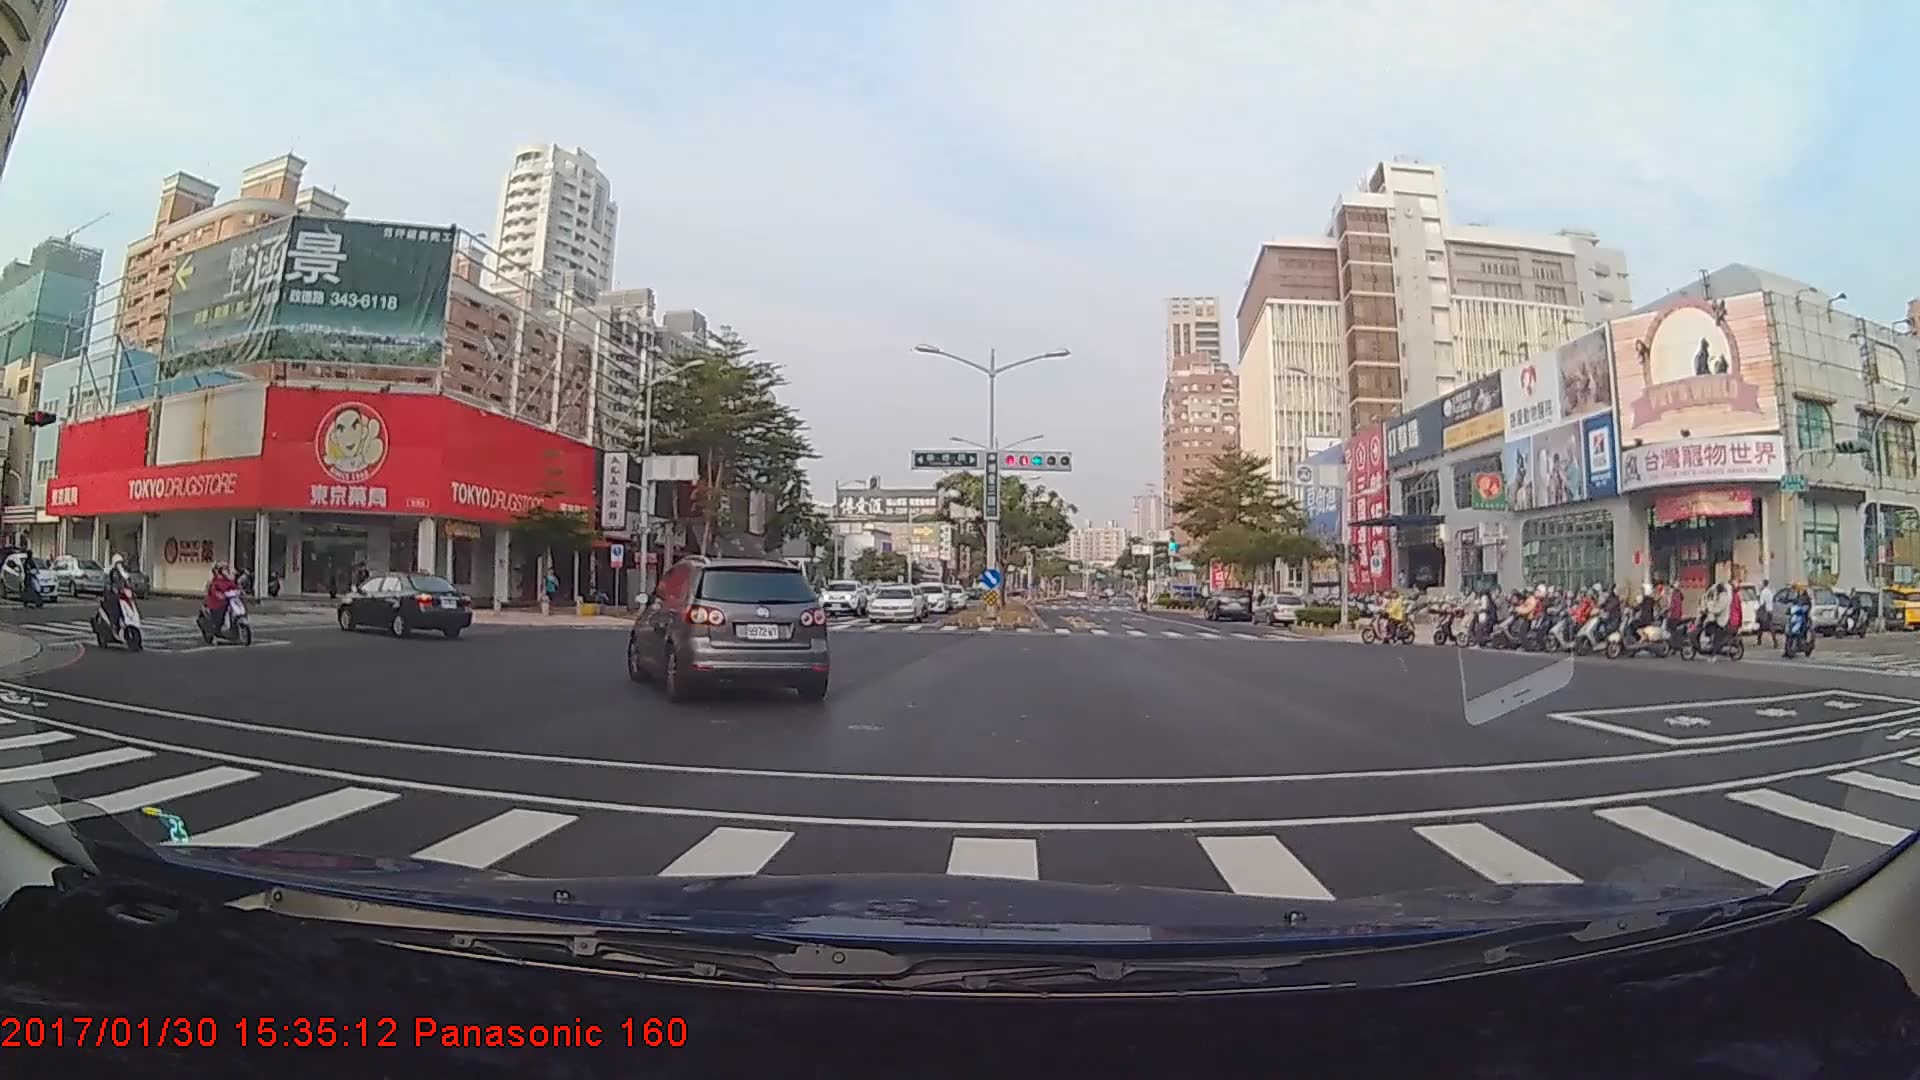rider: (1674, 578, 1744, 667), (88, 555, 152, 652), (196, 564, 258, 646), (1586, 587, 1652, 655), (1590, 585, 1654, 657), (1438, 591, 1507, 648), (1356, 585, 1416, 646), (1777, 590, 1822, 667), (1496, 587, 1551, 647), (1537, 587, 1579, 651)
vehicle: (629, 550, 830, 700), (335, 570, 473, 642), (0, 552, 62, 601), (43, 554, 110, 594), (868, 585, 927, 625), (816, 579, 869, 617), (1204, 585, 1252, 620), (912, 582, 947, 614)
